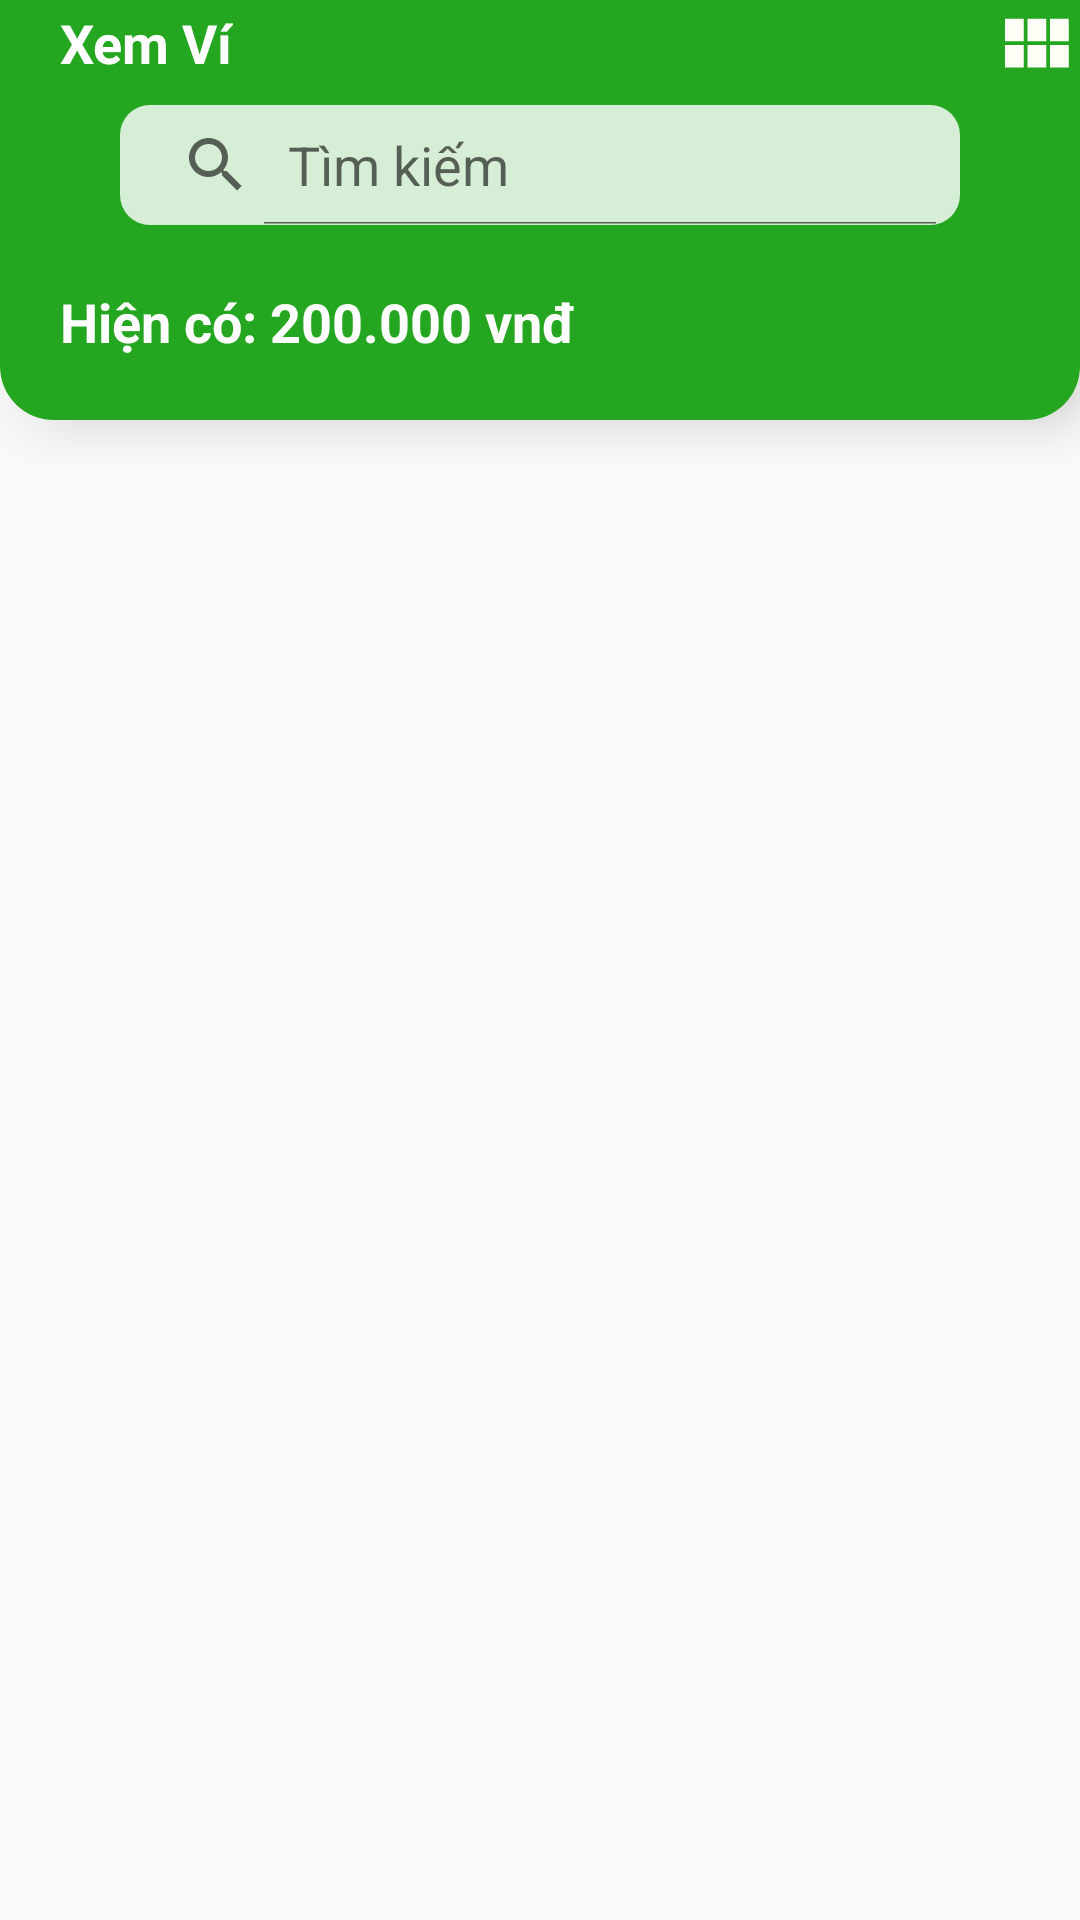

Locate icon controls on the screen. Image size 1080px×1920px, boxes as (x1, y1, x2, y2).
view module: (1005, 18, 1069, 68)
